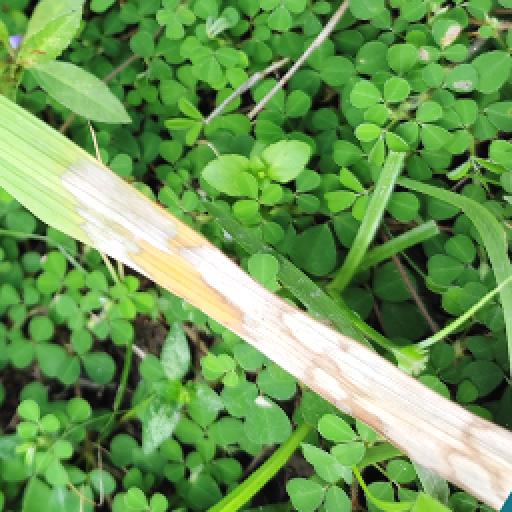Sheath Blight: (28, 150, 512, 512)
